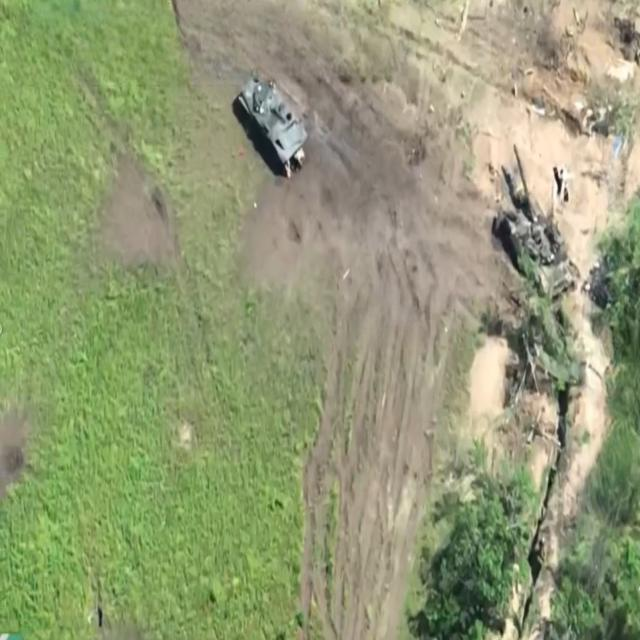AIFV: (235, 71, 311, 181)
MBT: (497, 145, 582, 301)
